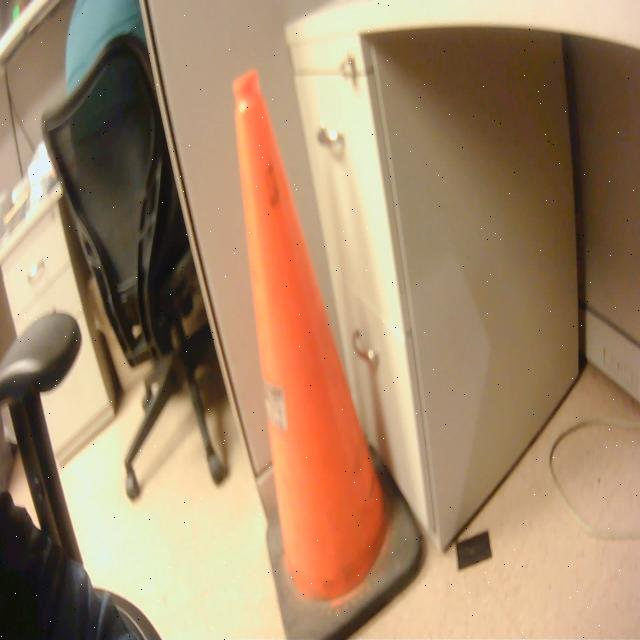traffic cone: (225, 67, 434, 640)
